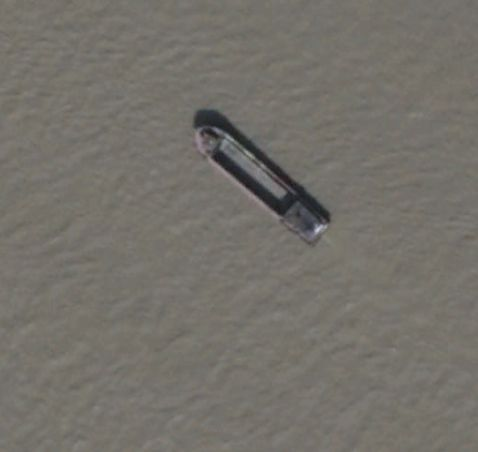boat: (192, 116, 331, 247)
